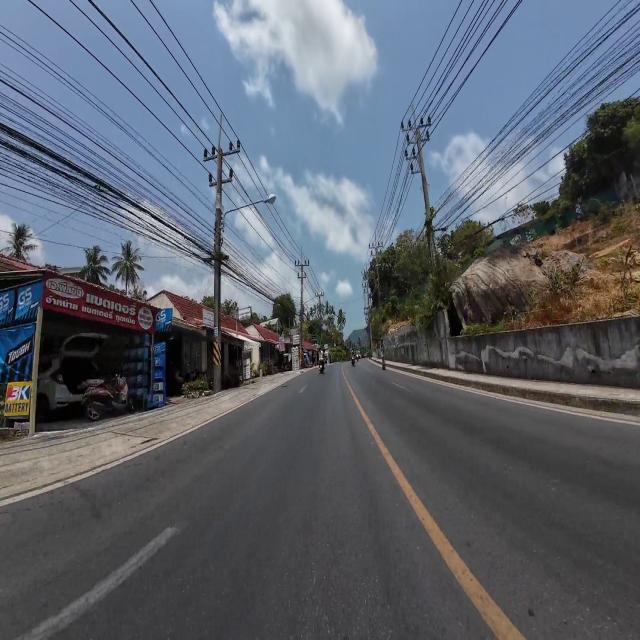motorcycle: (83, 376, 129, 421), (319, 360, 324, 373), (352, 357, 355, 366)
